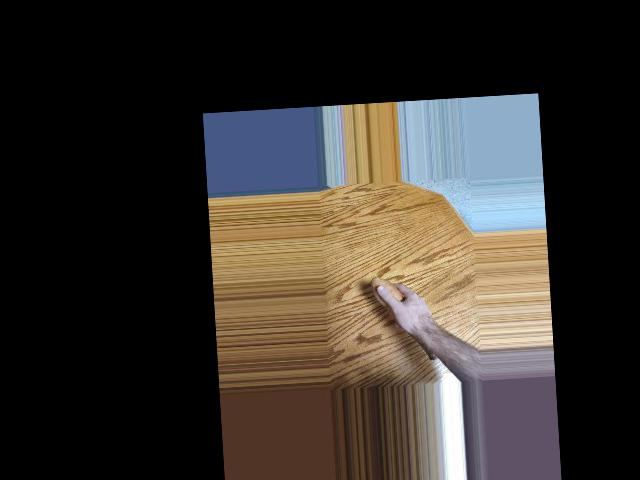sweet_potato: (370, 272, 444, 367)
